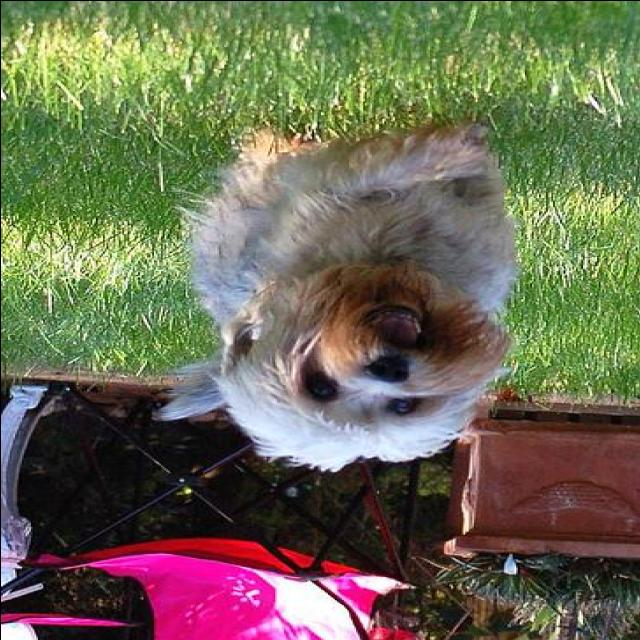dandie_dinmont: (154, 122, 526, 476)
